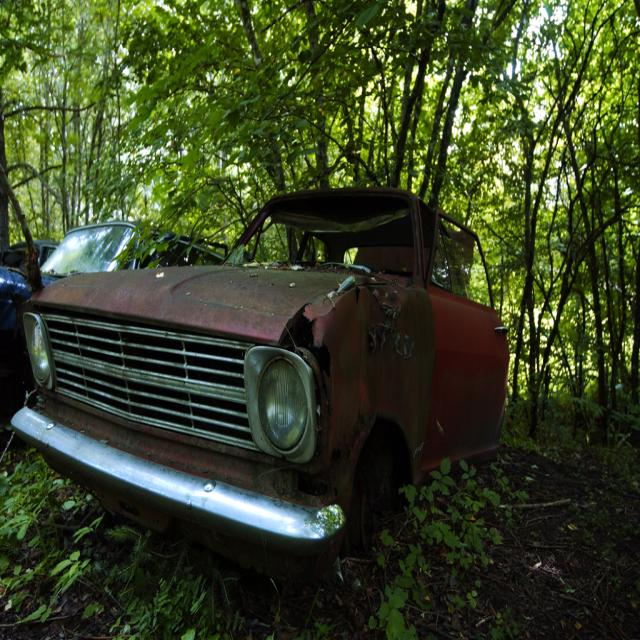car: (10, 188, 512, 582)
